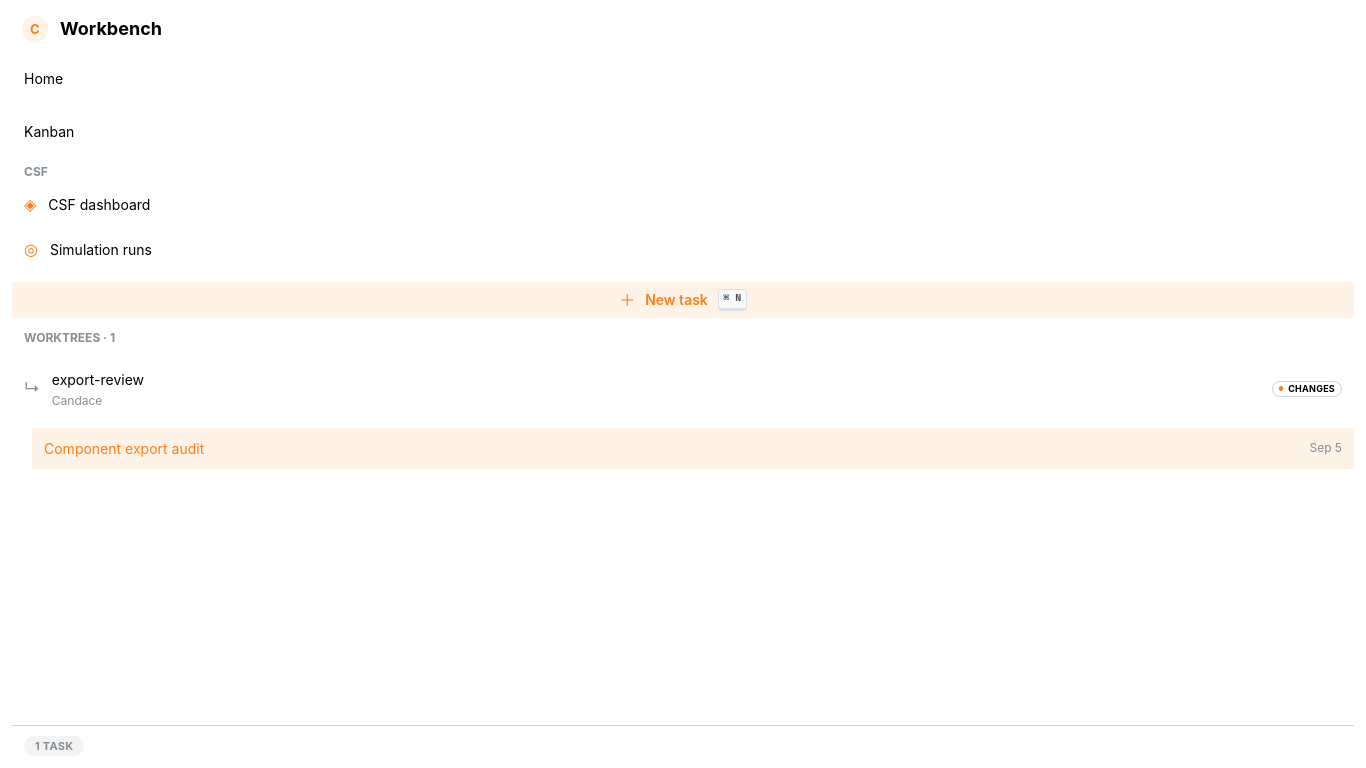
Test case: Sidebar › groups chats under their worktree and preserves selection
Expected: the text "export-review" is shown, [52,371,144,388]
Click the button "↳ export-review Candace Changes" at coordinates (98, 379), box [12,359,1354,418]
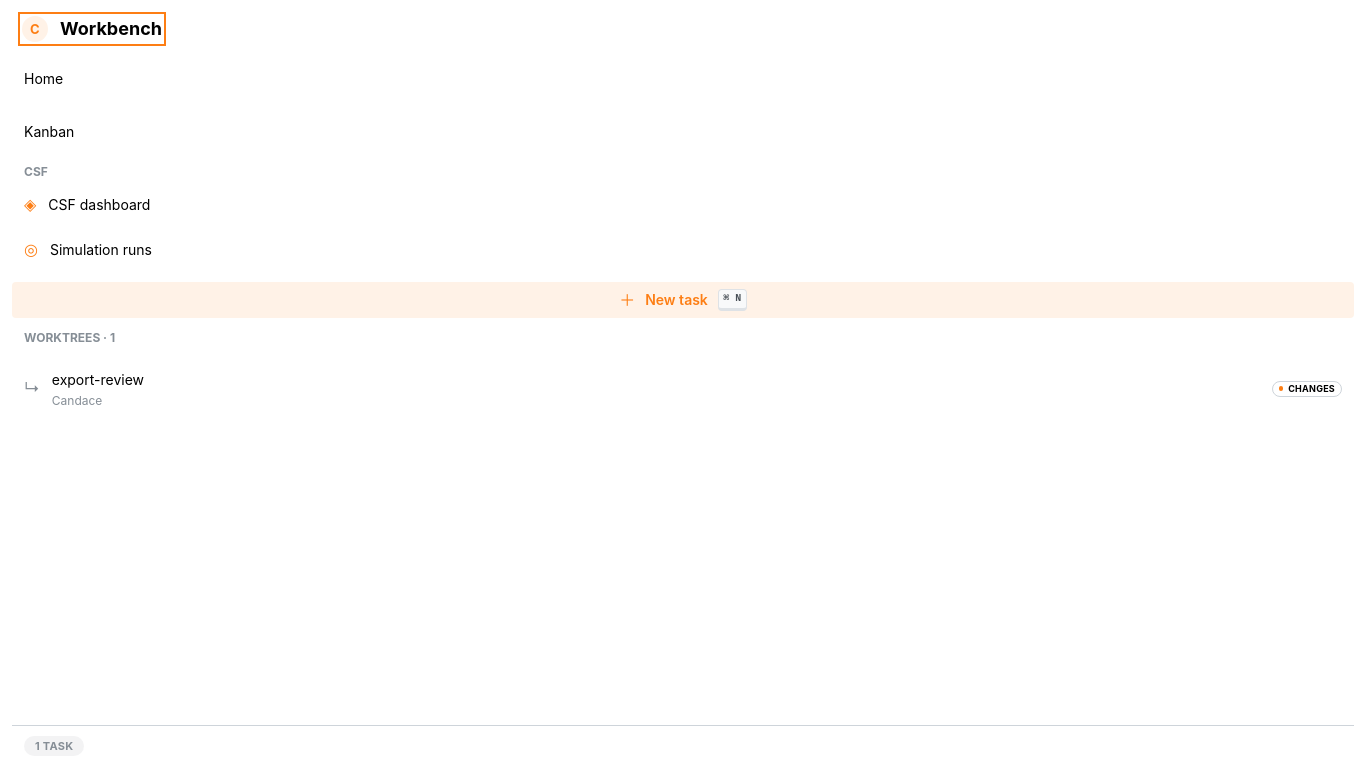
Result: the link "Component export audit" is gone
